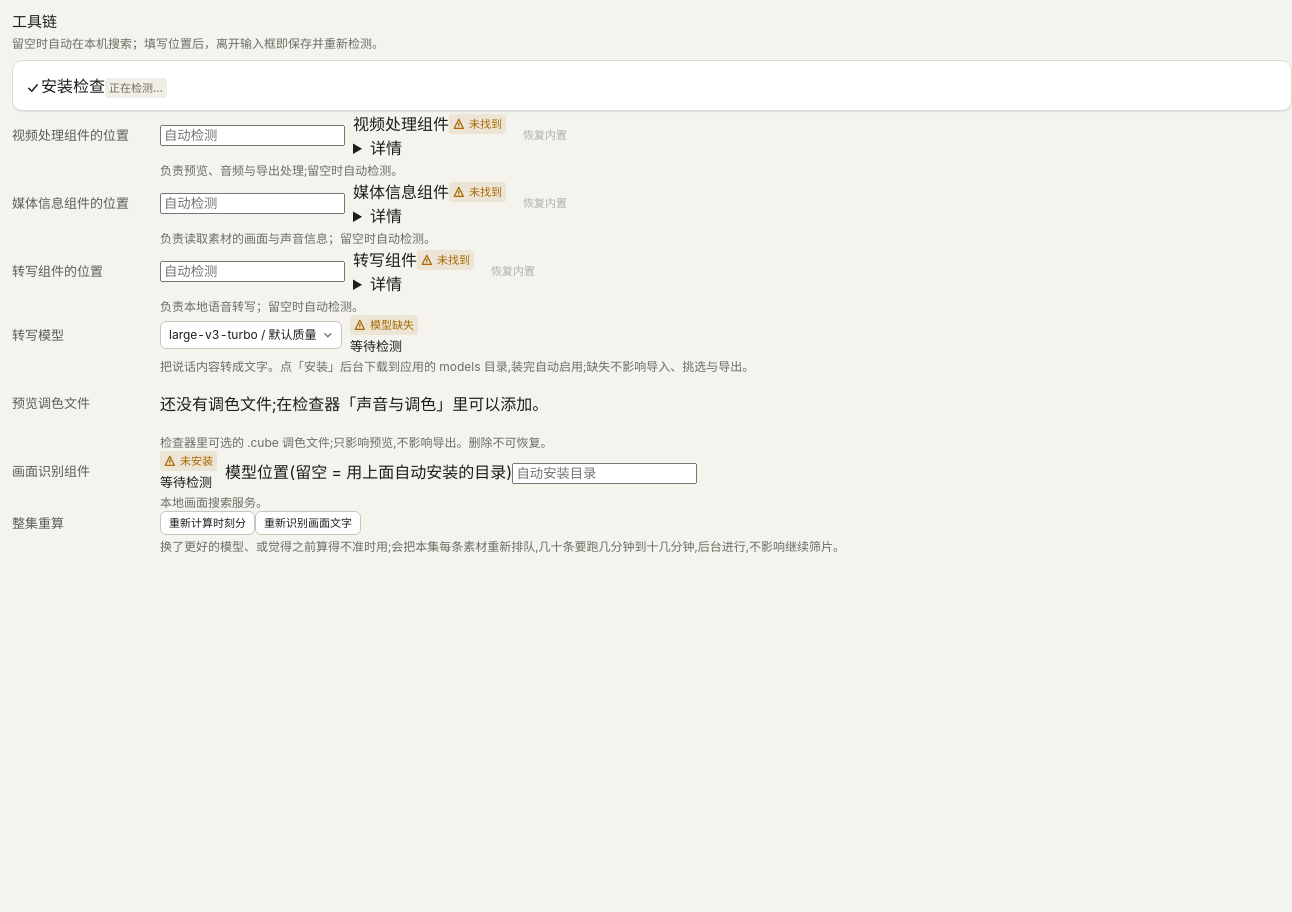
Test case: 整集重算(A16-04) › 没有需要重算的 → 「没有需要重新识别的素材」
Click the button "重新识别画面文字" at point(308, 523), box [255,511,361,535]
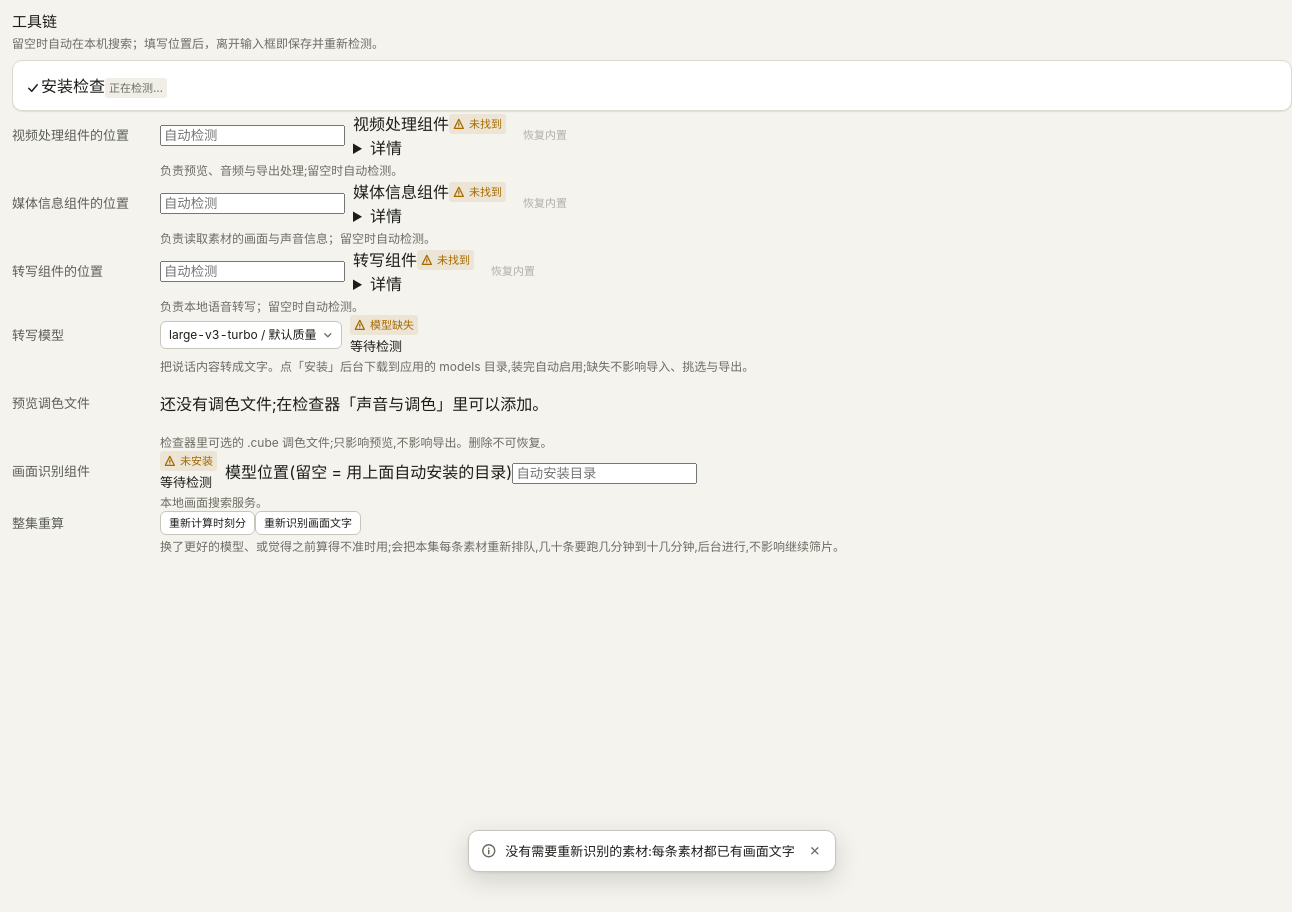
Expected: the text "没有需要重新识别的素材" is shown, [505,843,795,859]
